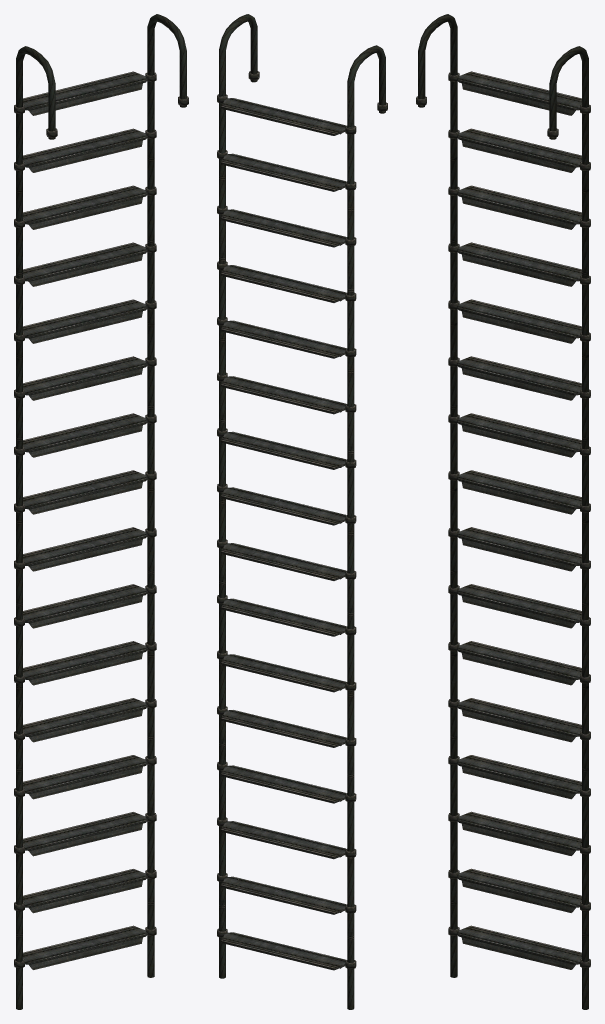
File: tesla_structure_catwalk_ladder_04.dae
3 renders of one model, left to right at view 1: azimuth 30°, elevation 25°; view 2: azimuth 150°, elevation 25°; view 3: azimuth 330°, elevation 25°, orthographic. The views are drawn at different scales.
Visible parts, largest first — view 1: polySurface203; view 2: polySurface203; view 3: polySurface203.
Boxes of the visible parts, box(x1,y1,x2,y2) form: polySurface203: box(14, 14, 188, 1009); polySurface203: box(217, 14, 387, 1009); polySurface203: box(416, 14, 590, 1009).
Size of the model in its own units: 1.04 by 6.81 by 0.5697.
